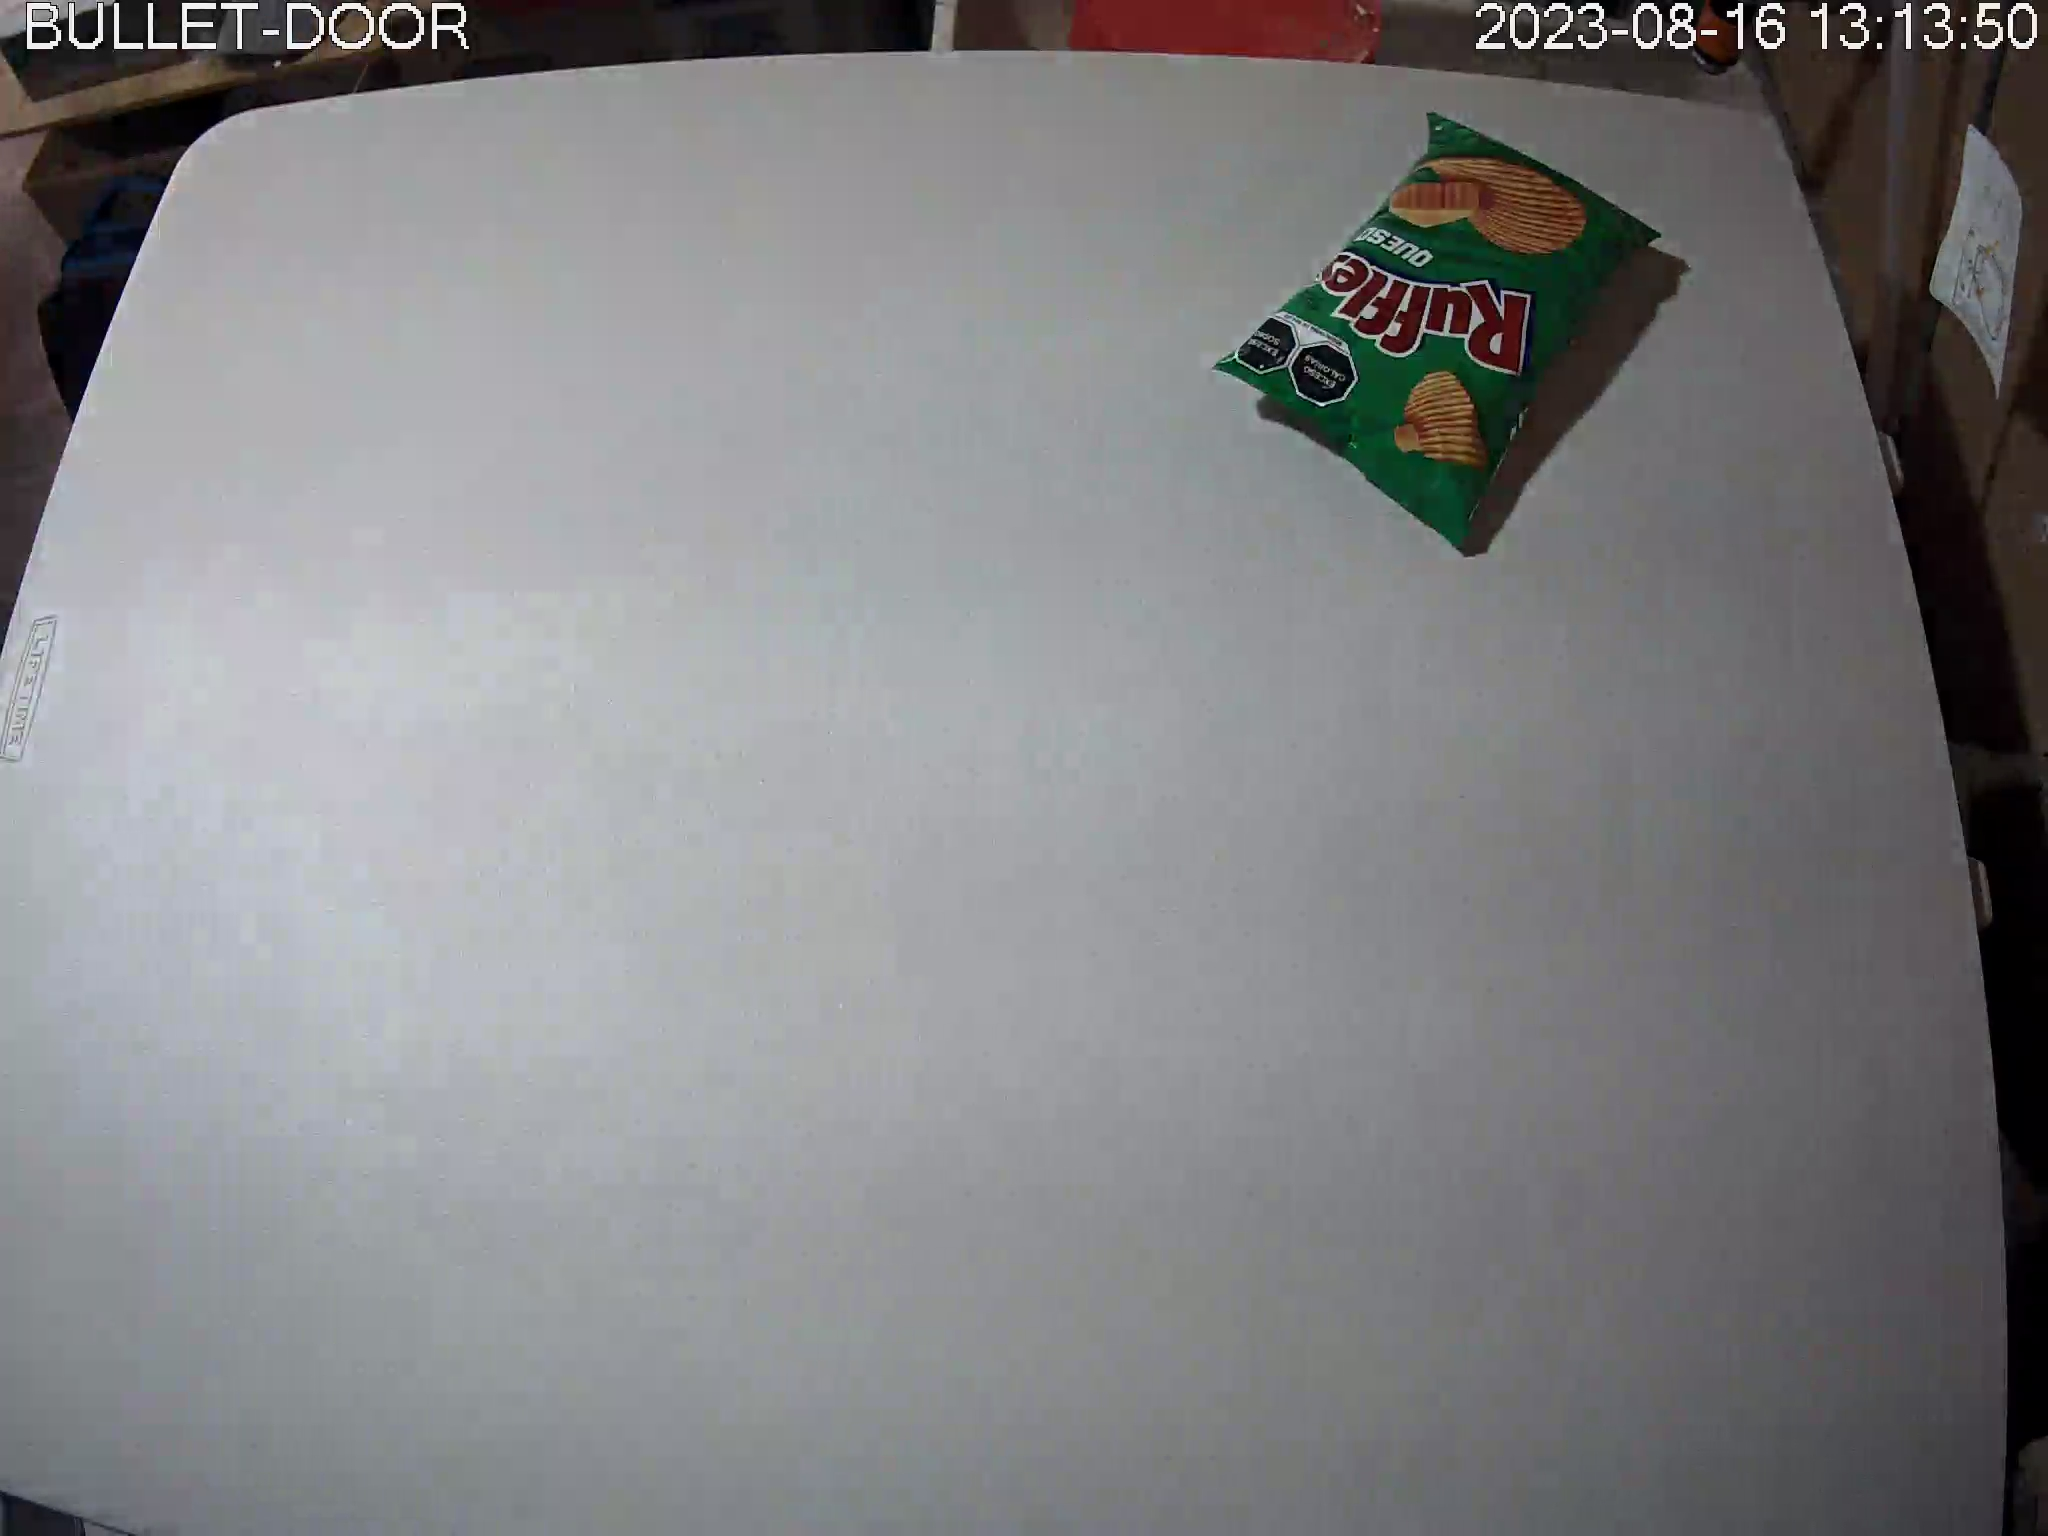RufflesQ_48_F: (1216, 111, 1663, 553)
